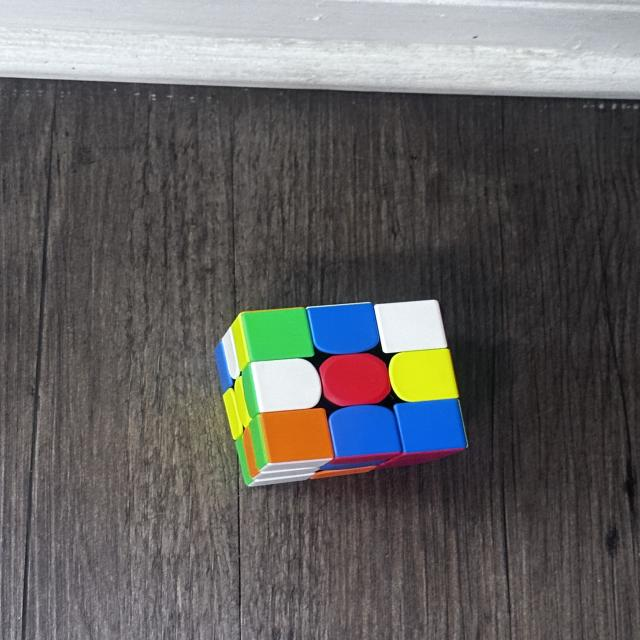sticker: (242, 407, 336, 486), (387, 399, 468, 469), (326, 403, 403, 469), (372, 298, 451, 358), (238, 307, 316, 365), (245, 358, 324, 415), (317, 352, 391, 409), (306, 302, 381, 357), (388, 348, 461, 404)
